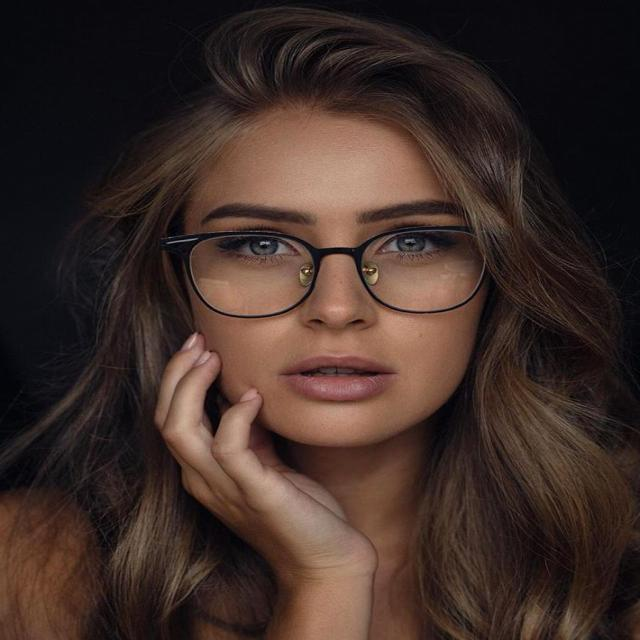Glasses: (165, 221, 496, 322)
